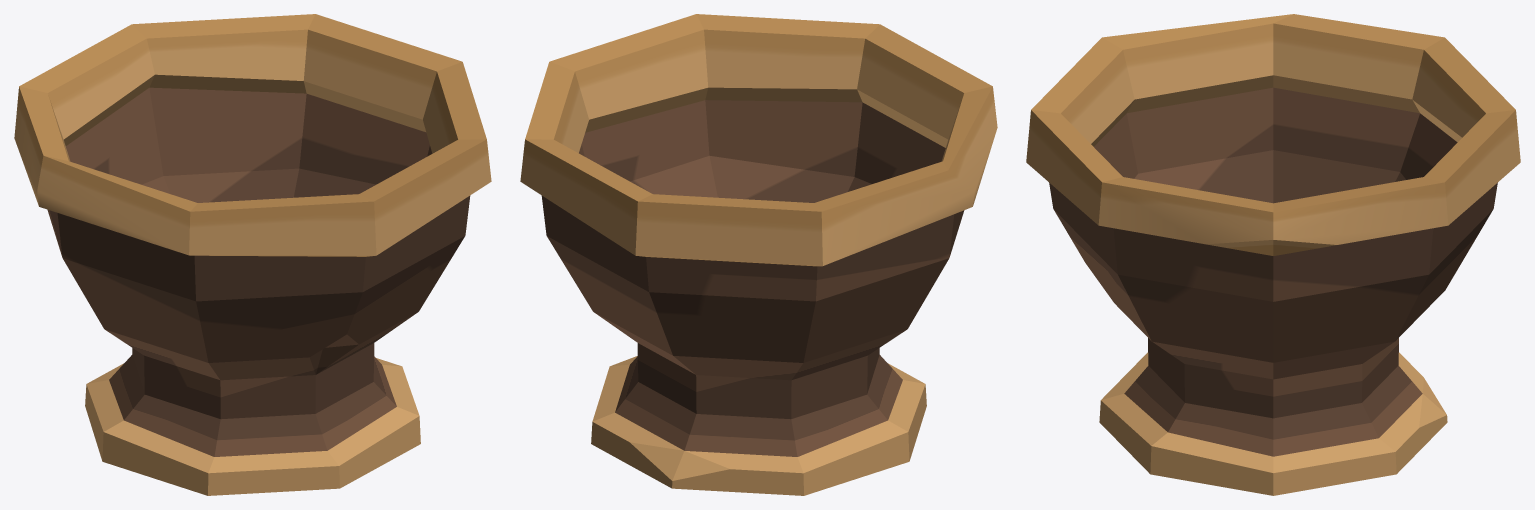
File: SM_Prop_Bowl_02.fbx
3 renders of one model, left to right at view 1: azimuth 30°, elevation 25°; view 2: azimuth 150°, elevation 25°; view 3: azimuth 270°, elevation 25°, orthographic.
Visible parts, largest first — view 1: SM_Prop_Bowl_02; view 2: SM_Prop_Bowl_02; view 3: SM_Prop_Bowl_02.
Boxes of the visible parts, box(x1,y1,x2,y2) form: SM_Prop_Bowl_02: box(14, 14, 491, 495); SM_Prop_Bowl_02: box(520, 14, 997, 495); SM_Prop_Bowl_02: box(1026, 14, 1520, 495).
Bounding box in the file's own units: 23.49 × 16.23 × 23.28.
